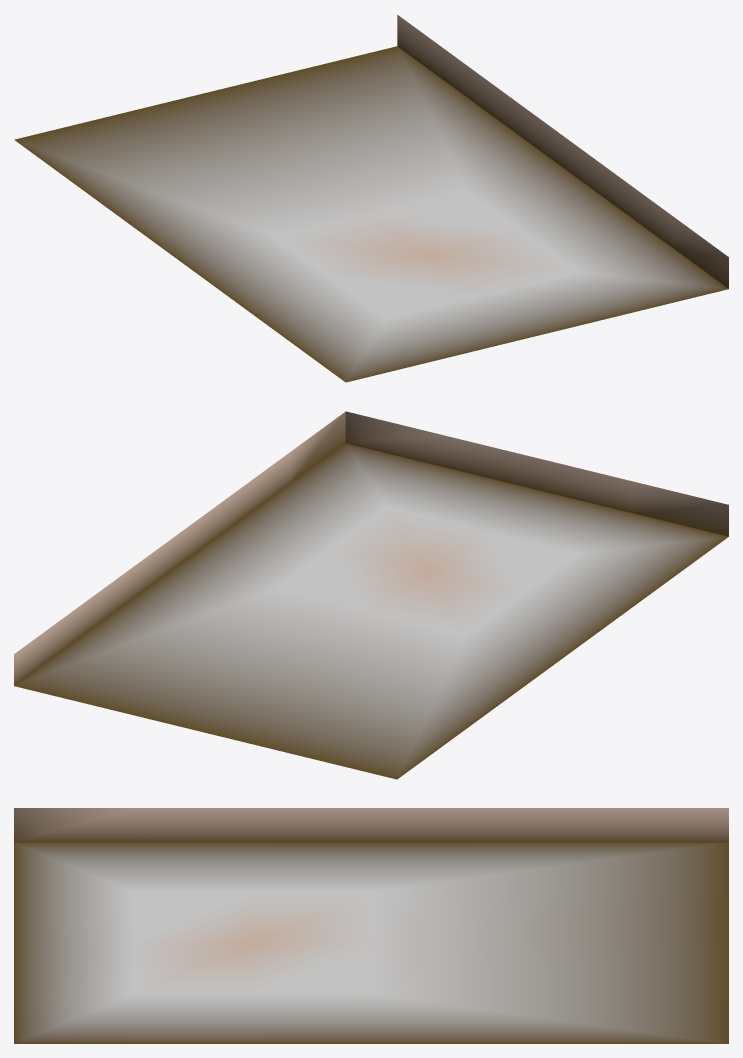
Rendered from map.glb.
The picture shows the model from 3 angles, top to bottom: view 1: azimuth 30°, elevation 25°; view 2: azimuth 150°, elevation 25°; view 3: azimuth 270°, elevation 25°; orthographic projection. The views are drawn at different scales.
Visible parts, largest first — view 1: Plane; view 2: Plane; view 3: Plane.
Boxes of the visible parts, x1,y1,x2,y2 form: Plane: [14, 15, 728, 382]; Plane: [14, 411, 728, 779]; Plane: [14, 808, 728, 1043].
Bounding box in the file's own units: 16 × 1.27 × 24.
